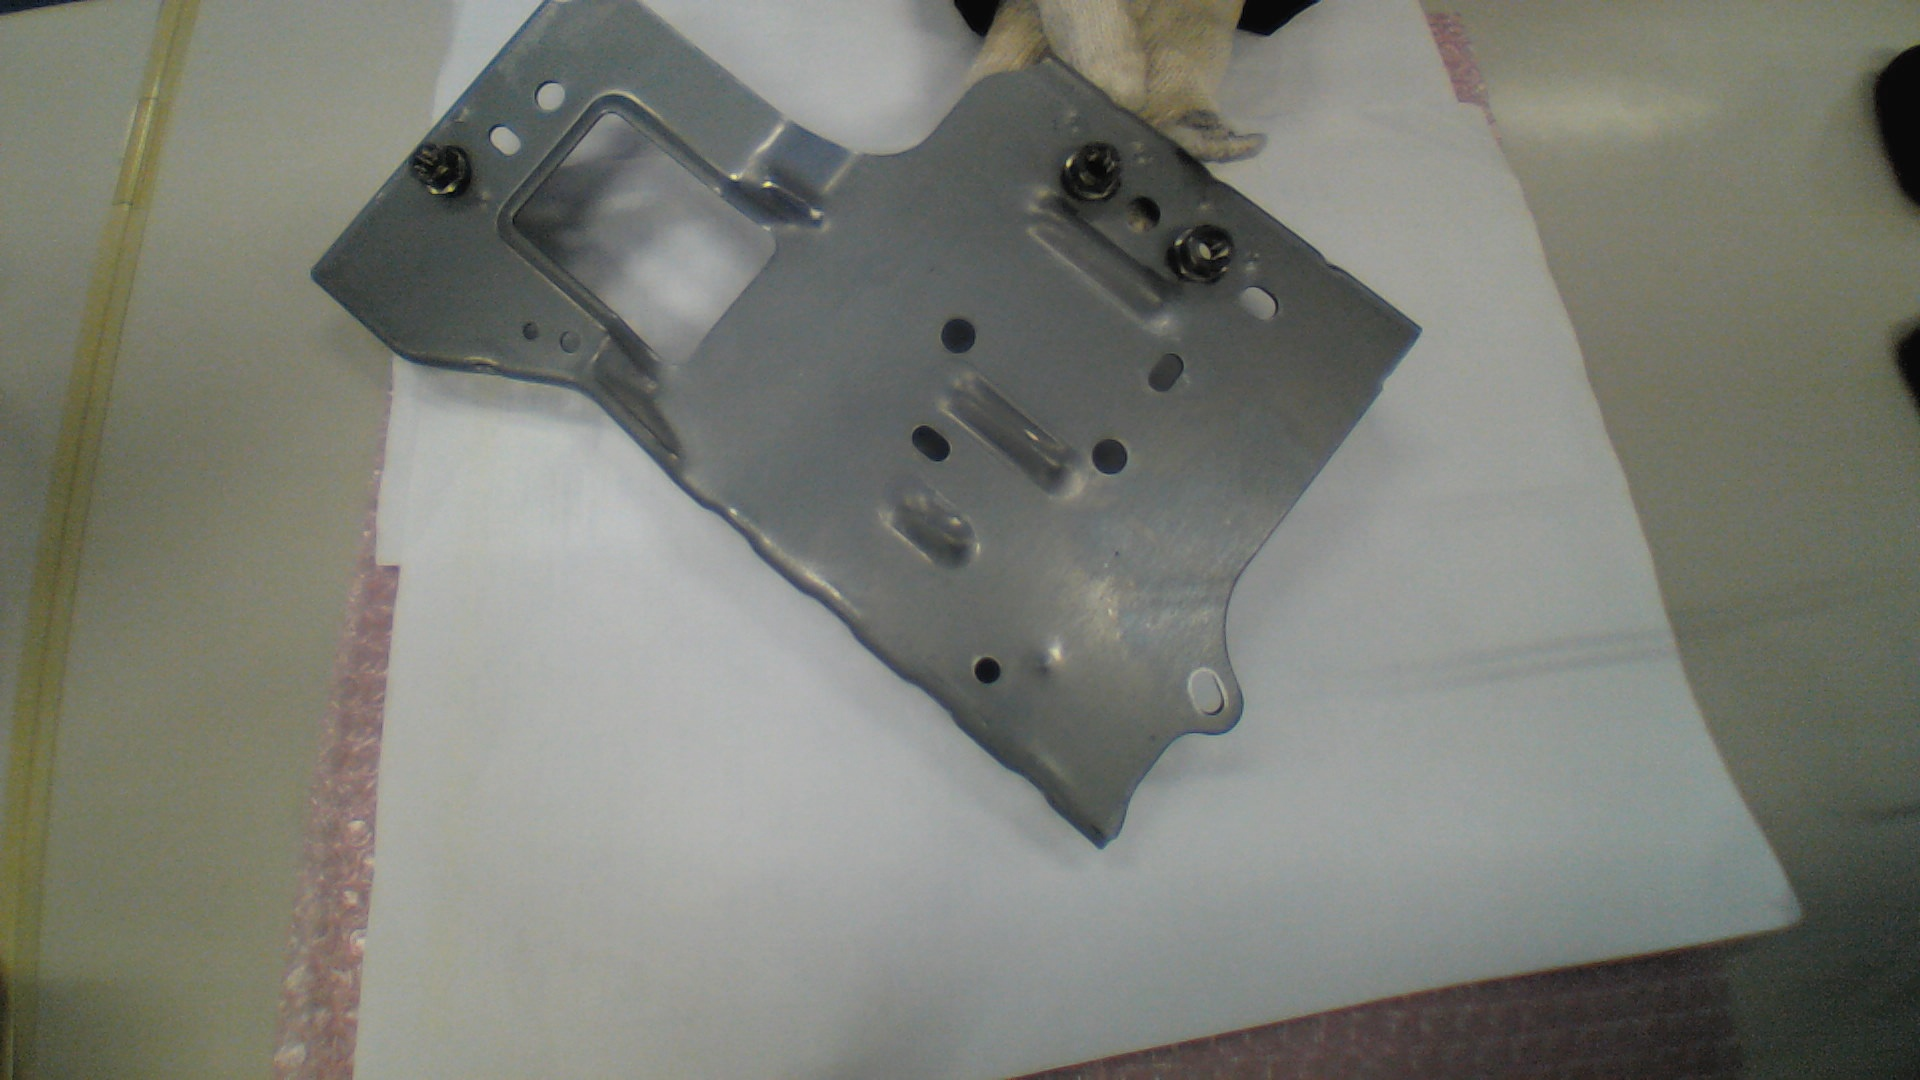dog: (1170, 222, 1238, 284), (1064, 142, 1121, 203), (410, 145, 471, 196)
